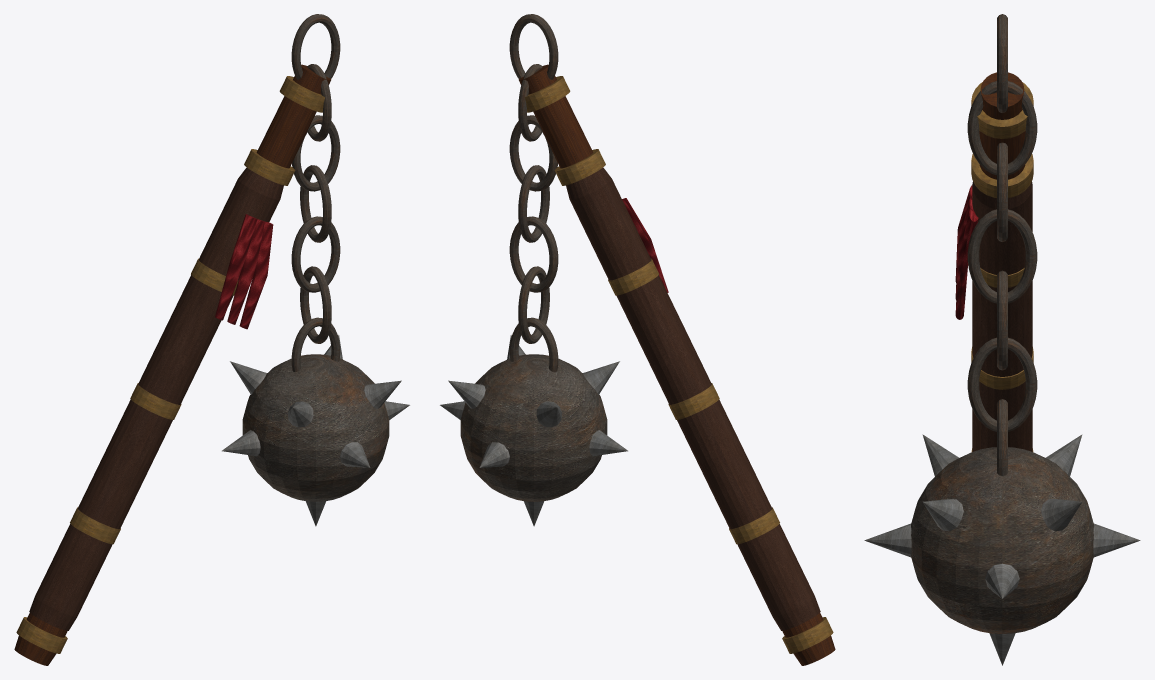
The model's file is flail.obj.
3 views of the same model, side by side, from view 1: azimuth 30°, elevation 25°; view 2: azimuth 150°, elevation 25°; view 3: azimuth 270°, elevation 25° (orthographic). The views are drawn at different scales.
Visible parts, largest first — view 1: grip, head, shaft, link4, tassel0, link0, tassel2, link3, link5, tassel1, link2, link6 (+10 smaller); view 2: grip, head, shaft, link4, link0, link3, link5, link2, link6, band4, band0, band1 (+8 smaller); view 3: head, grip, link3, link5, link1, shaft, band5, band4, link4, link2, link0, tassel2 (+10 smaller).
Part boxes in pixels (box(x1,y1,x2,y2)): grip: box(29, 167, 283, 630); head: box(242, 354, 389, 501); shaft: box(14, 64, 331, 665); link4: box(291, 216, 340, 292); tassel0: box(215, 214, 257, 320); link0: box(291, 14, 340, 79); tassel2: box(239, 221, 273, 329); link3: box(300, 165, 331, 242); link5: box(300, 266, 331, 343); tassel1: box(227, 218, 264, 324); link2: box(292, 115, 340, 191); link6: box(291, 317, 340, 371); grip: box(566, 167, 820, 630); head: box(460, 354, 607, 501); shaft: box(518, 64, 835, 665); link4: box(509, 216, 558, 292); link0: box(509, 14, 558, 79); link3: box(518, 165, 549, 242); link5: box(518, 266, 549, 343); link2: box(509, 115, 557, 191); link6: box(509, 317, 558, 371); band4: box(554, 149, 605, 185); band0: box(782, 617, 833, 653); band1: box(729, 507, 779, 544); head: box(911, 447, 1093, 633); grip: box(972, 181, 1032, 451); link3: box(967, 209, 1037, 303); link5: box(967, 337, 1037, 431); link1: box(967, 81, 1037, 175); shaft: box(979, 72, 1025, 179); band5: box(971, 82, 1033, 138); band4: box(971, 154, 1033, 197); link4: box(997, 270, 1007, 370); link2: box(997, 142, 1007, 241); link0: box(997, 14, 1007, 112); tassel2: box(955, 205, 978, 319).
Bounding box in the file's own units: 66.49 × 94 × 31.99.
Materials: 6 (6 with a texture image).
